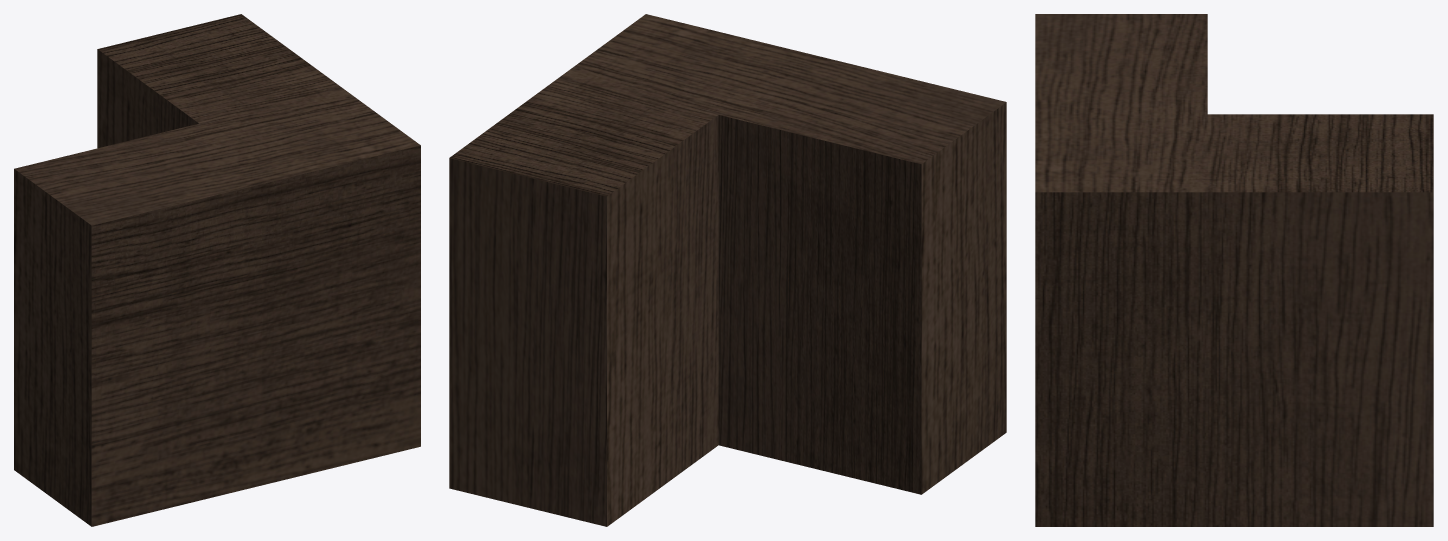
The model's file is MostradorS3.obj.
3 renders of one model, left to right at view 1: azimuth 30°, elevation 25°; view 2: azimuth 150°, elevation 25°; view 3: azimuth 270°, elevation 25°, orthographic. The views are drawn at different scales.
Visible parts, largest first — view 1: MostradorS3; view 2: MostradorS3; view 3: MostradorS3.
Boxes of the visible parts, box(x1,y1,x2,y2) form: MostradorS3: box(14, 14, 420, 526); MostradorS3: box(449, 14, 1006, 526); MostradorS3: box(1035, 14, 1433, 526).
Size of the model in its own units: 5.58 by 4.88 by 5.27.
1 material, 1 textured.
